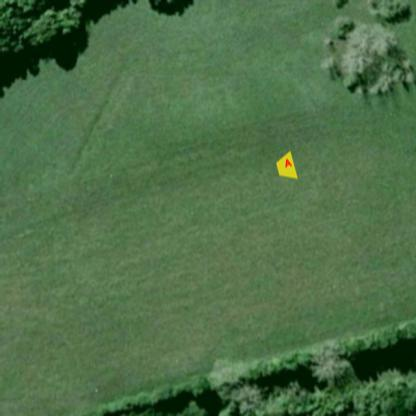A: (284, 156, 294, 171)
trapezium: (277, 150, 296, 183)
